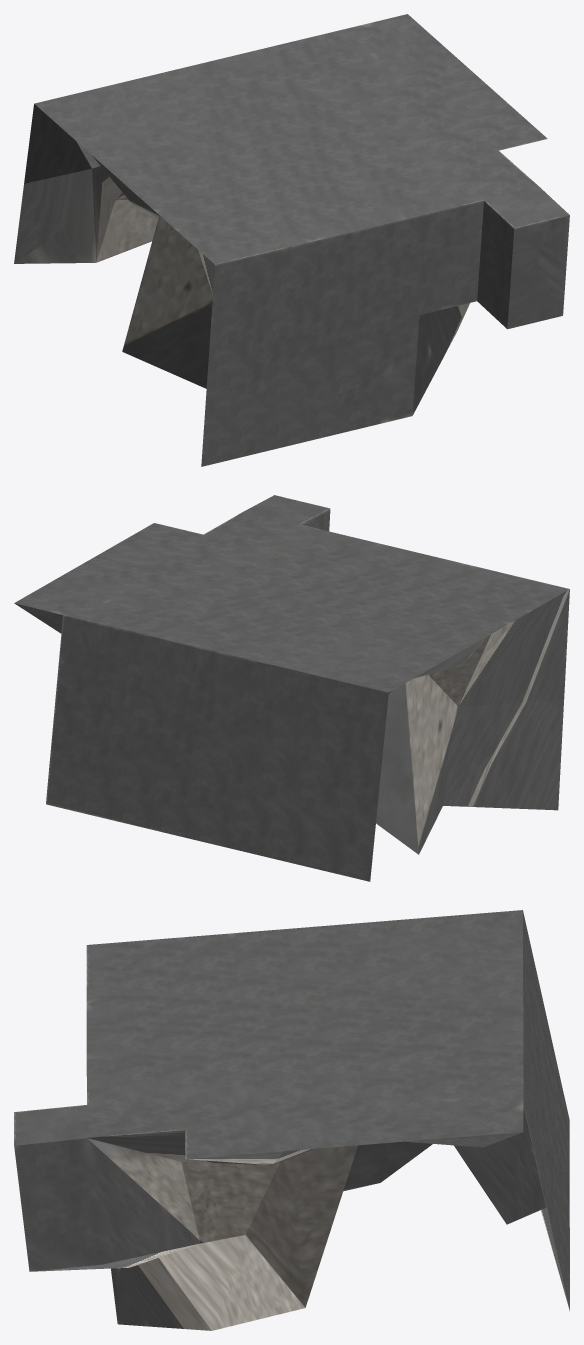
The picture shows the model from 3 angles, top to bottom: view 1: azimuth 30°, elevation 25°; view 2: azimuth 150°, elevation 25°; view 3: azimuth 270°, elevation 25°; orthographic projection. The views are drawn at different scales.
Parts seen in each view (by area): view 1: Destructible.005; view 2: Destructible.005; view 3: Destructible.005.
Part boxes in pixels (left/top/right/bottom): Destructible.005: left=14, top=14, right=569, bottom=466; Destructible.005: left=14, top=495, right=569, bottom=881; Destructible.005: left=14, top=910, right=569, bottom=1330.
Bounding box in the file's own units: 317 × 194 × 337.
1 material, 1 textured.
